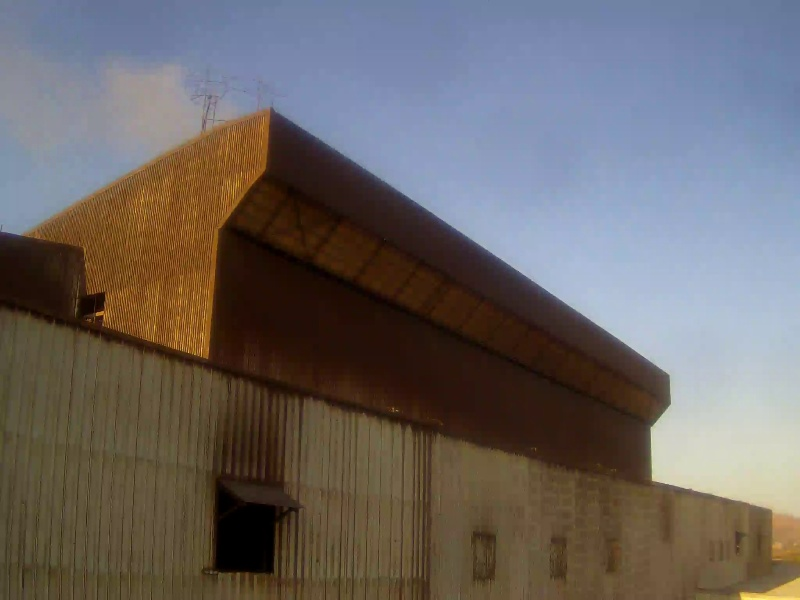bom: (260, 1, 783, 499)
ruim: (1, 11, 242, 194)
